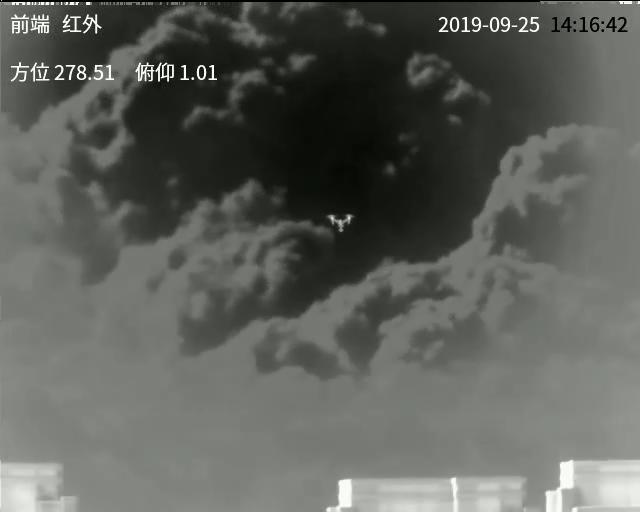uav: (326, 211, 354, 232)
